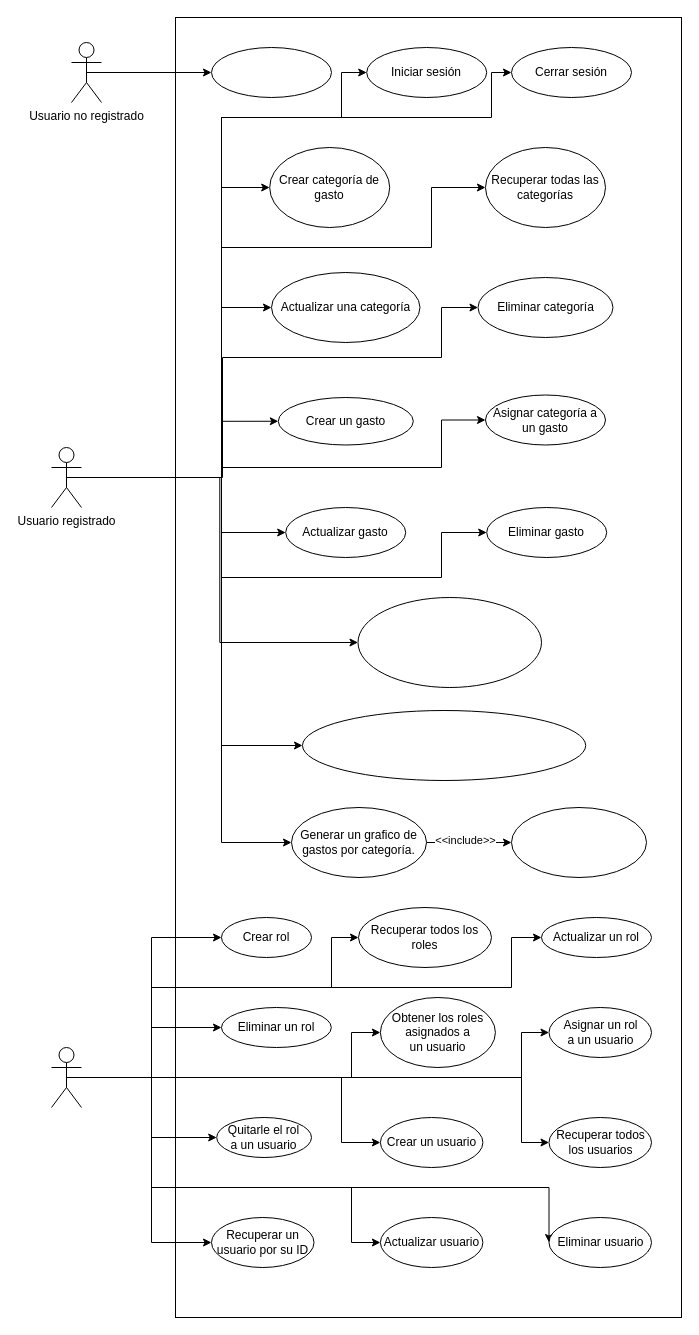
Some shapes in this 699 by 1335 pixel diagram are drawn without their labels. Each missing label, with the box of its shape:
Administrador: (50, 1046, 82, 1108)
Generar un total de gastos por categoria.: (510, 806, 646, 878)
Recuperar todos los gastos filtrados y ordenados según sus atributos: (357, 596, 542, 688)
Recuperar total de gastos en base a un criterio como categoría o fecha: (302, 710, 586, 780)
Registrarse: (210, 46, 332, 98)
